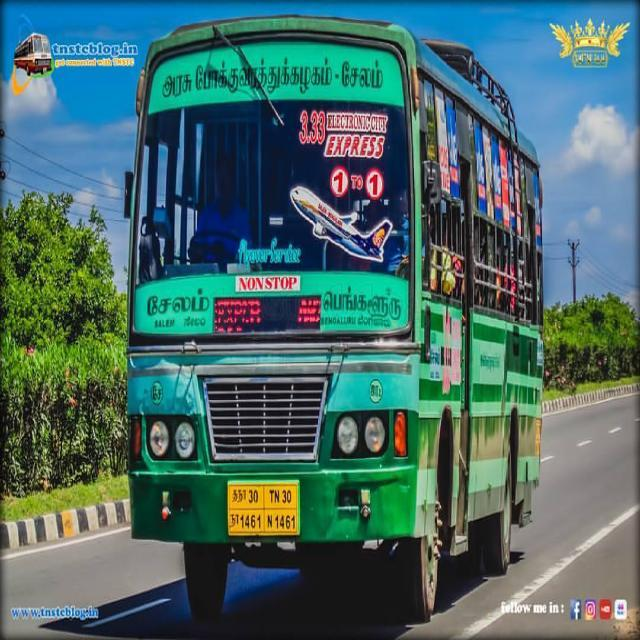Bus: (119, 9, 546, 626)
